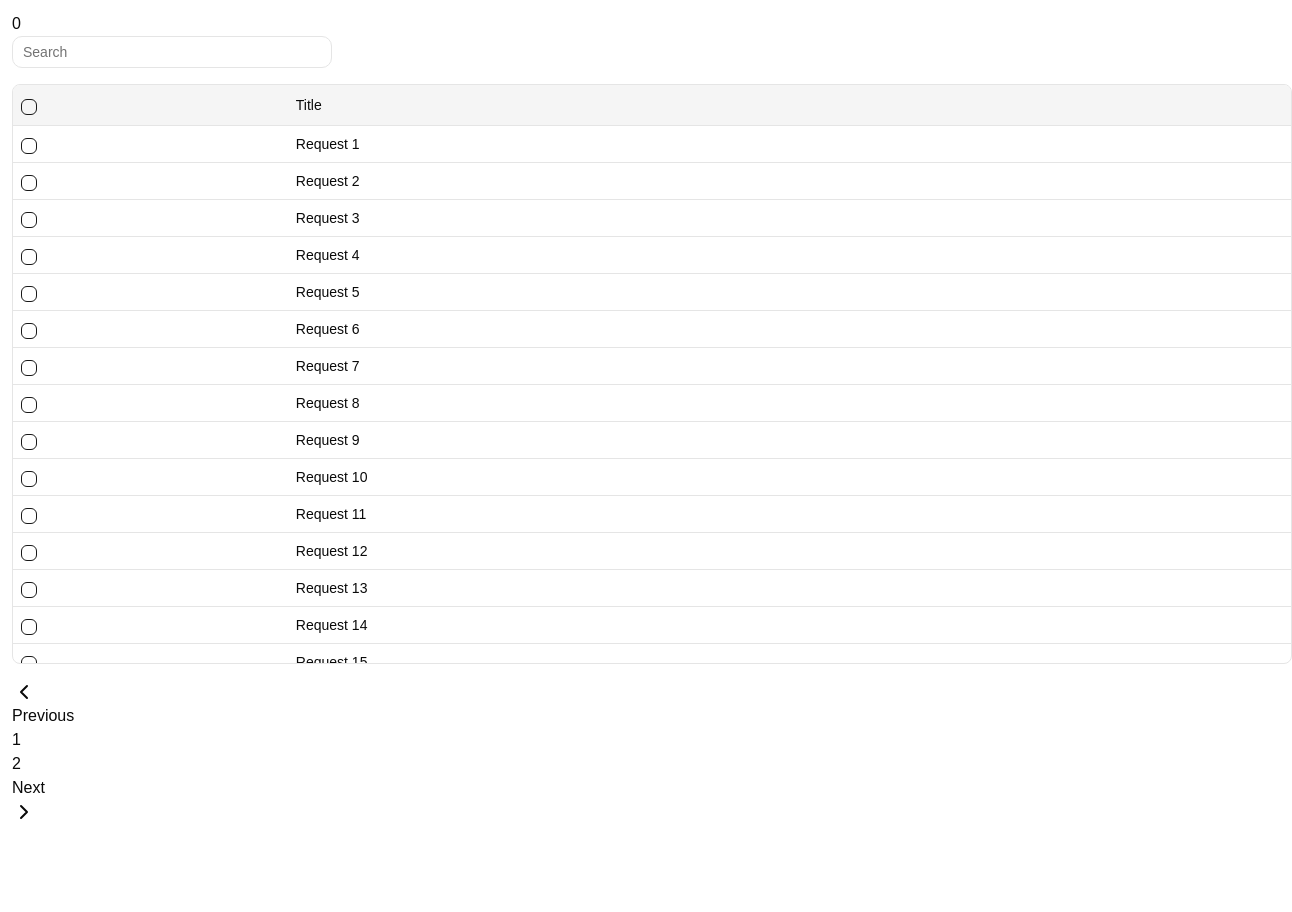
Scenario: EntityTable row selection › selects the current page and preserves stable selections across pages
What coordinates should you click on to do the following:
click the checkbox named "Select Request 1"
I would click on:
 (29, 146)
Its box is [21, 138, 37, 154].
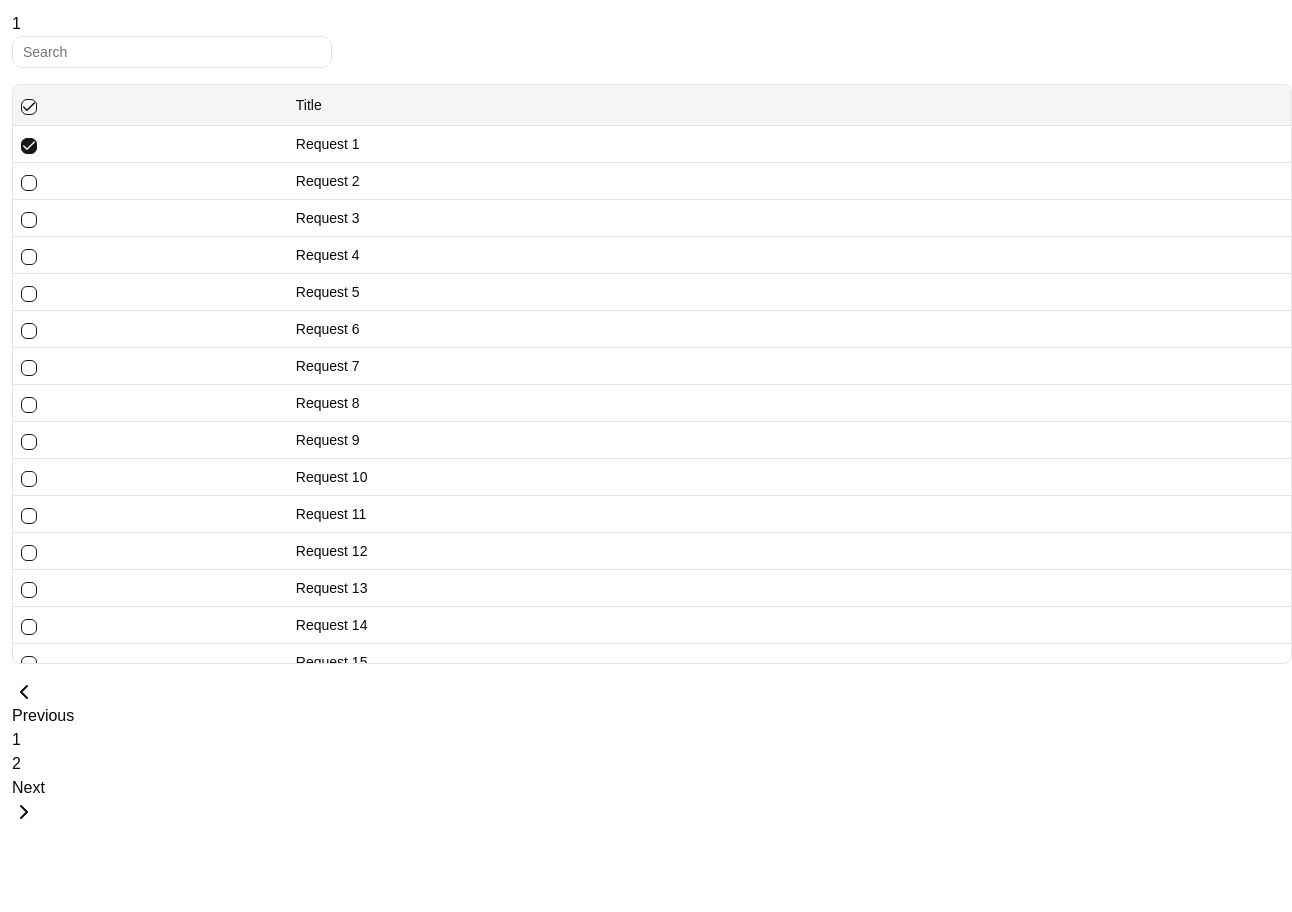
Now the checkbox named "Select current page" has attribute aria-checked="mixed"
What coordinates should you click on to do the following:
click the checkbox named "Select current page"
I would click on:
 (29, 107)
Its box is [21, 99, 37, 115].
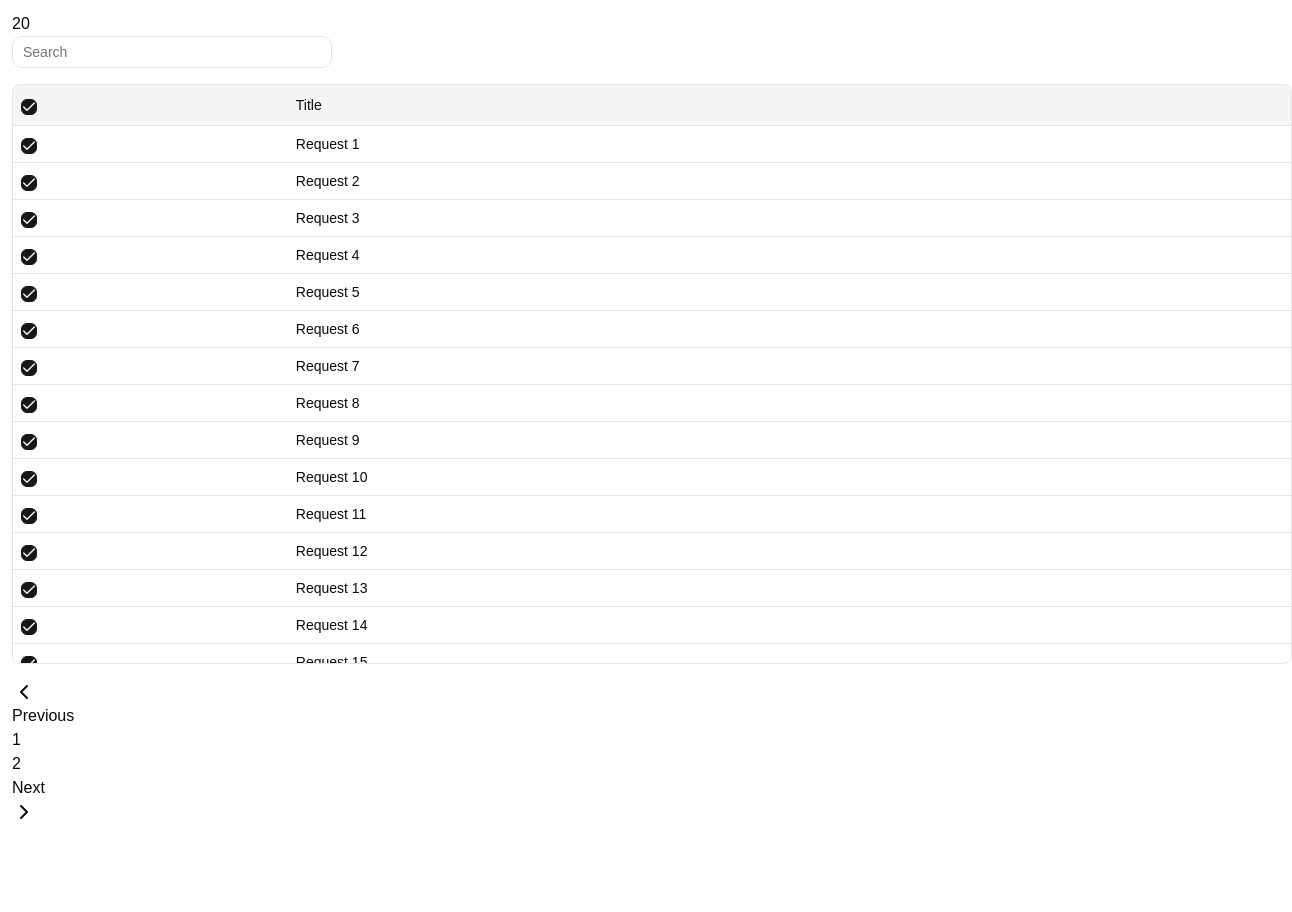
Now the text named "Selected count" reads "20", box [12, 15, 30, 32]
What coordinates should you click on to do the following:
click the link "2"
I would click on:
 (16, 764)
Its box is [12, 755, 21, 772].
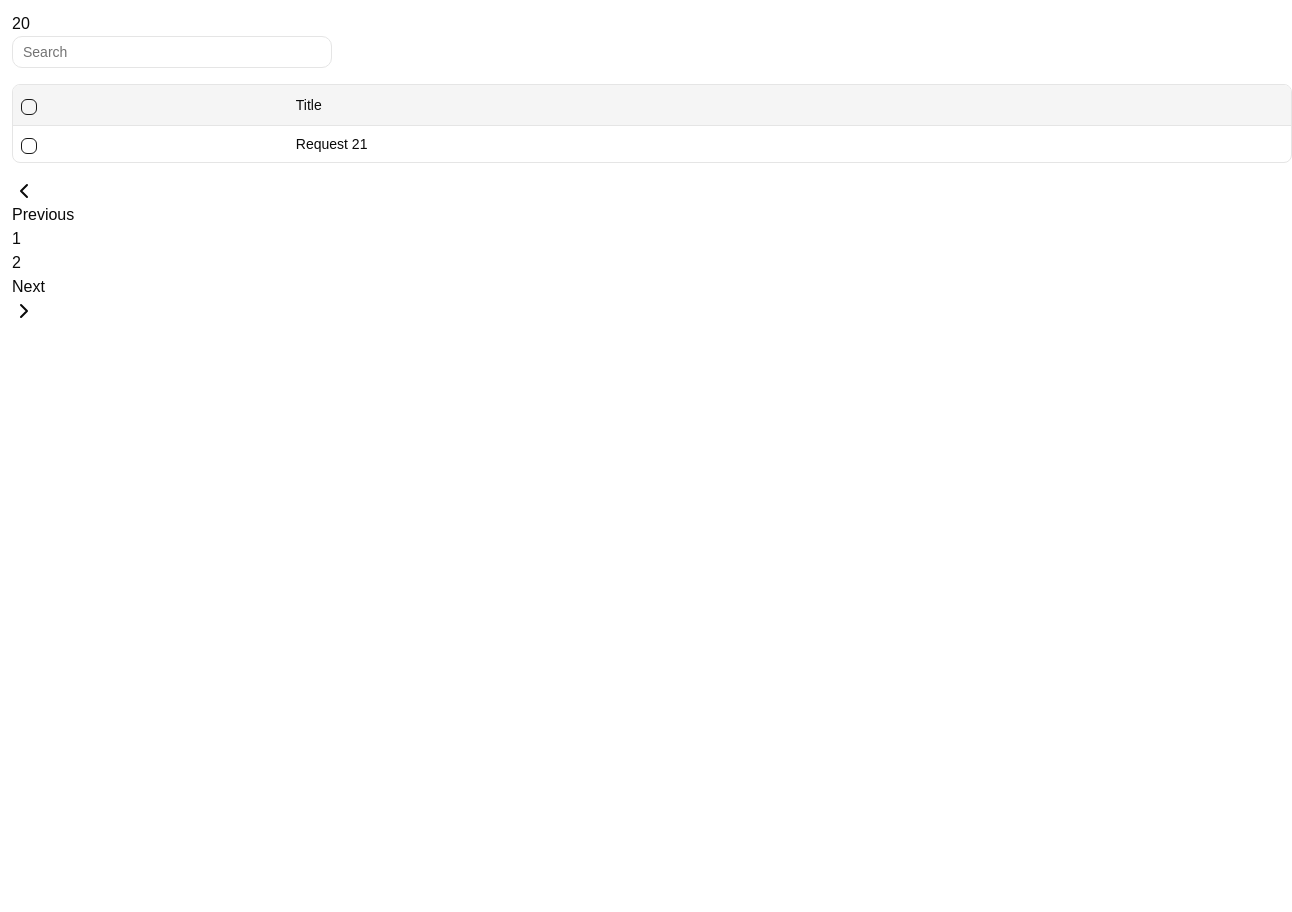
Now the checkbox named "Select current page" is not checked, box [21, 99, 37, 115]
What coordinates should you click on to do the following:
click the checkbox named "Select Request 21"
I would click on:
 (29, 146)
Its box is [21, 138, 37, 154].
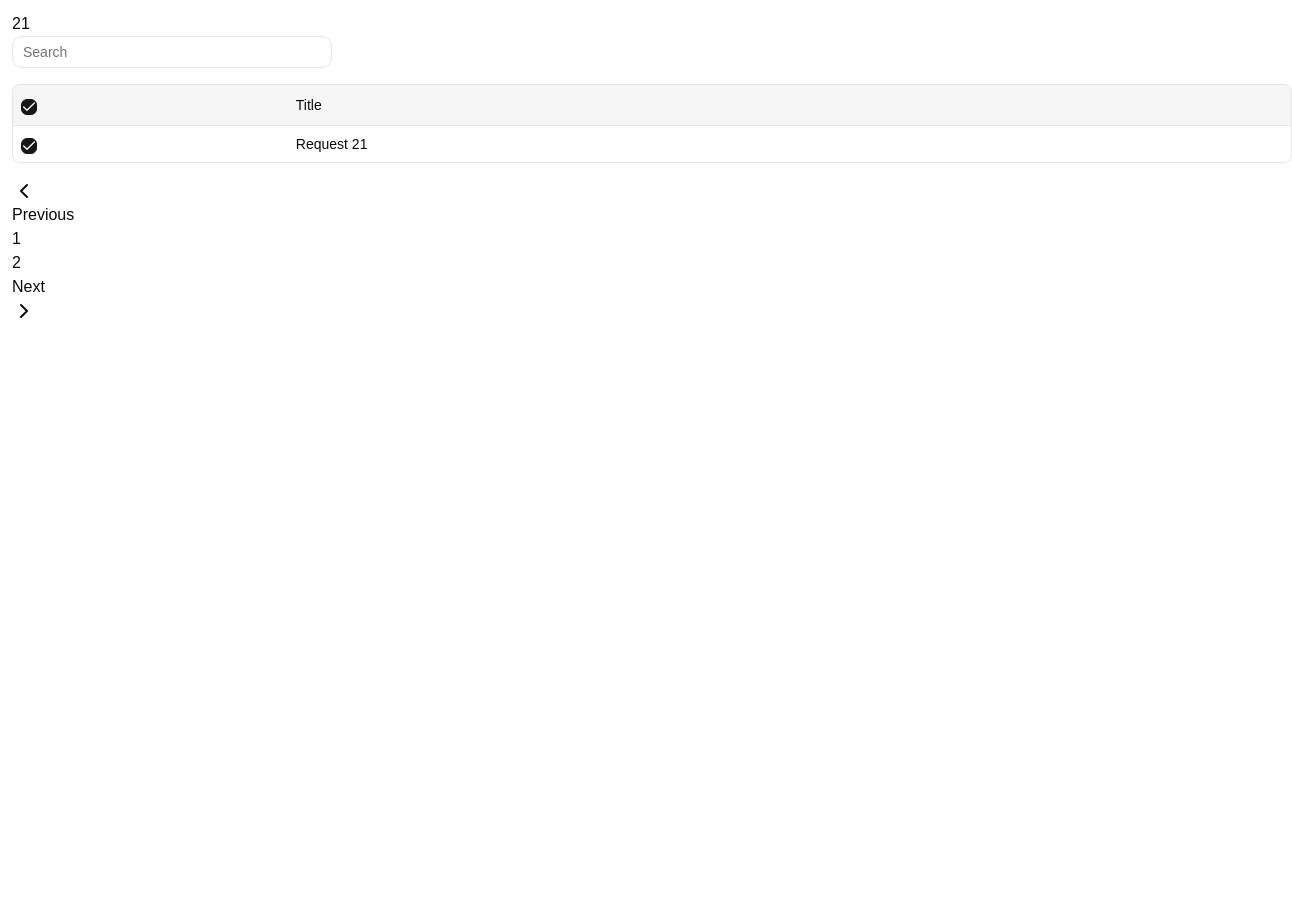
Now the text named "Selected count" reads "21", box [12, 15, 30, 32]
What coordinates should you click on to do the following:
click the checkbox named "Select current page"
I would click on:
 (29, 107)
Its box is [21, 99, 37, 115].
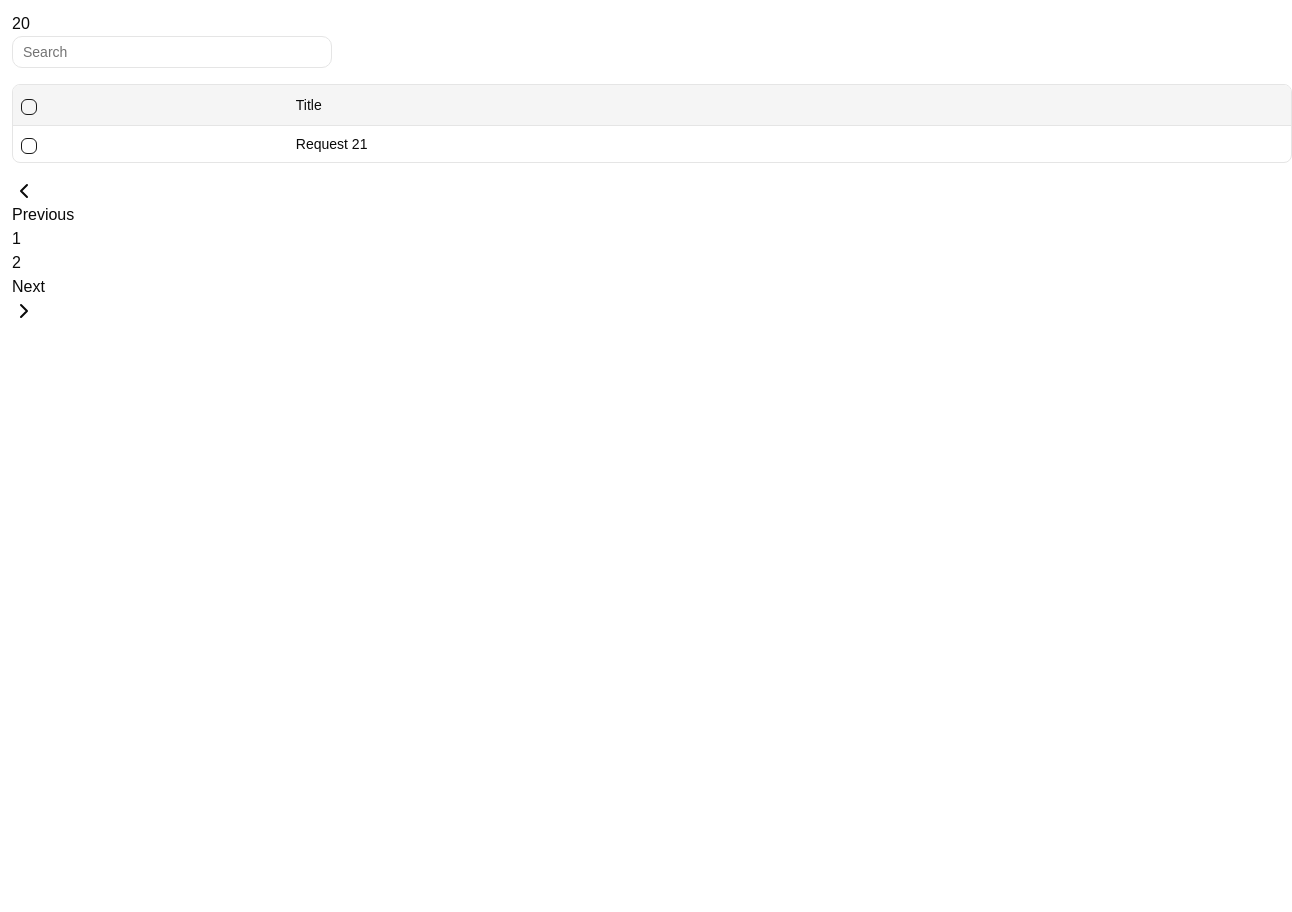
Now the text named "Selected count" reads "20", box [12, 15, 30, 32]
